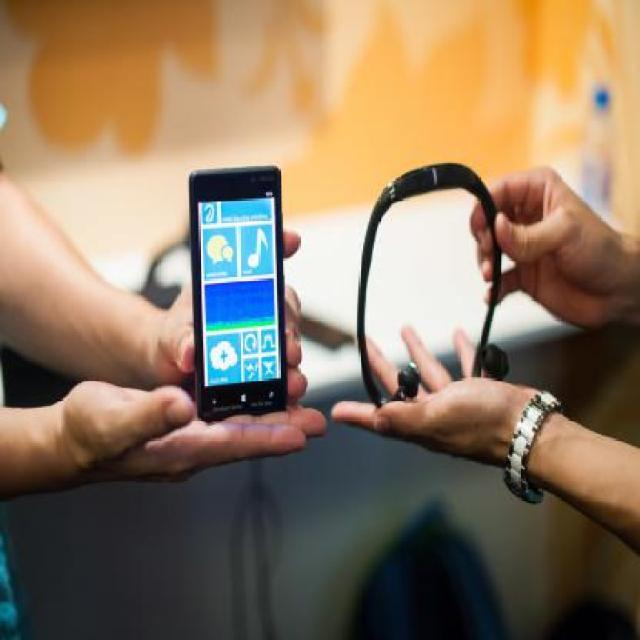earphone: (350, 135, 515, 397)
smart phone: (176, 152, 302, 426)
